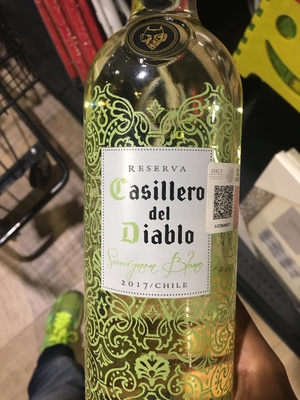casillero del diablo sauvignon blanc: (74, 12, 265, 396)
